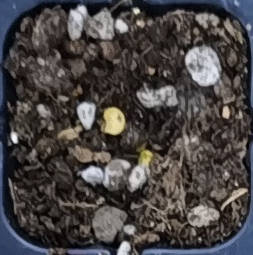pepper seed: (58, 64, 216, 235), (39, 39, 166, 174)
